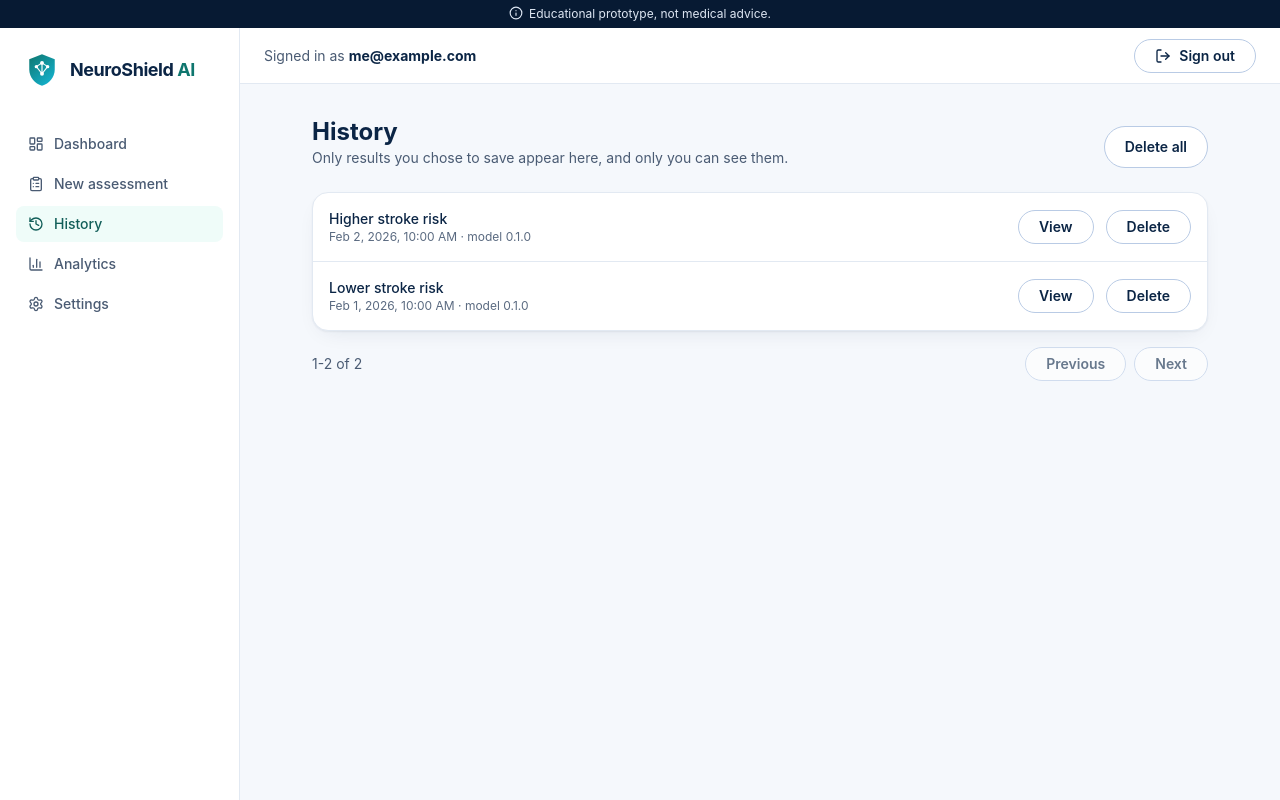
Test case: history › lists saved assessments and deletes one after confirmation
Expected: the text "Higher stroke risk" is shown, [329,210,447,227]
What coordinates should you click on to do the following:
click the button "Delete" in the row of "Higher stroke risk"
I would click on:
 (1148, 227)
Its box is [1106,210,1191,244].
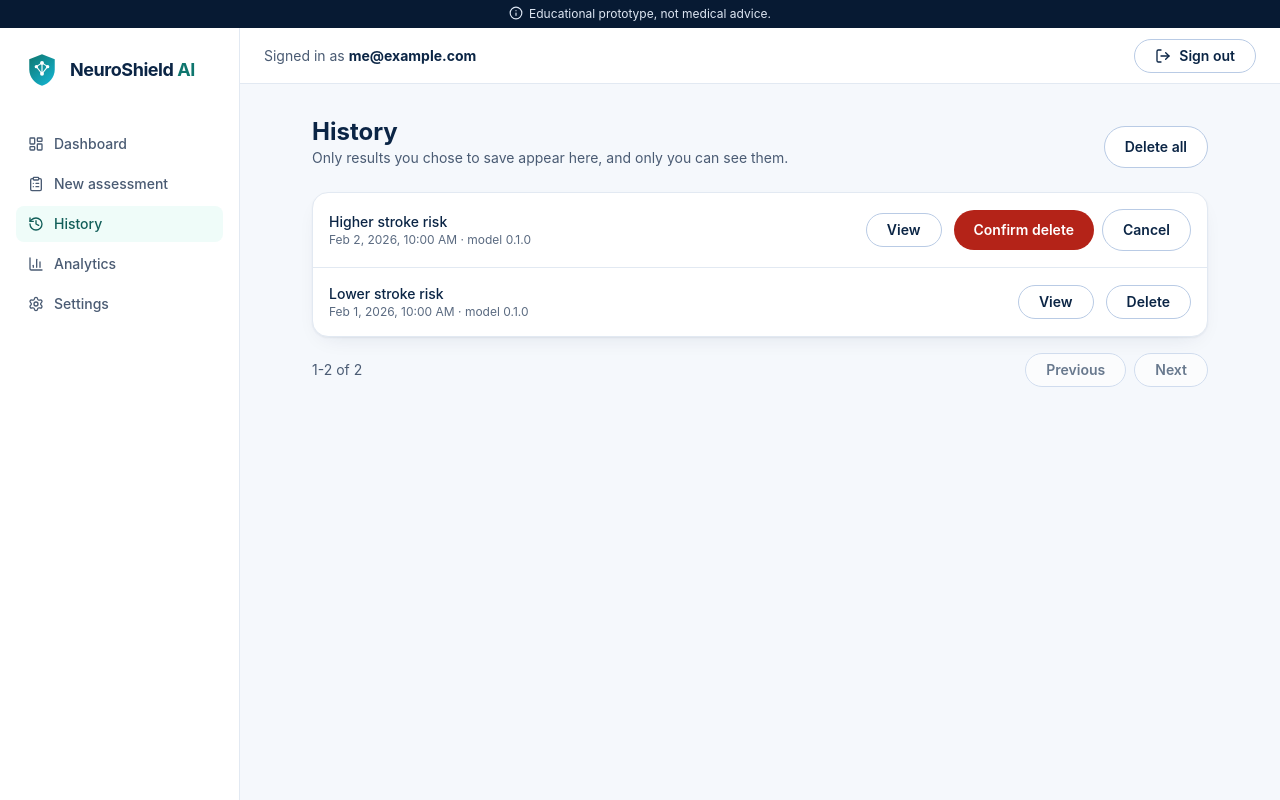
What coordinates should you click on to do the following:
click the button "Confirm delete"
I would click on:
 (1024, 230)
Its box is [954,210,1094,250].
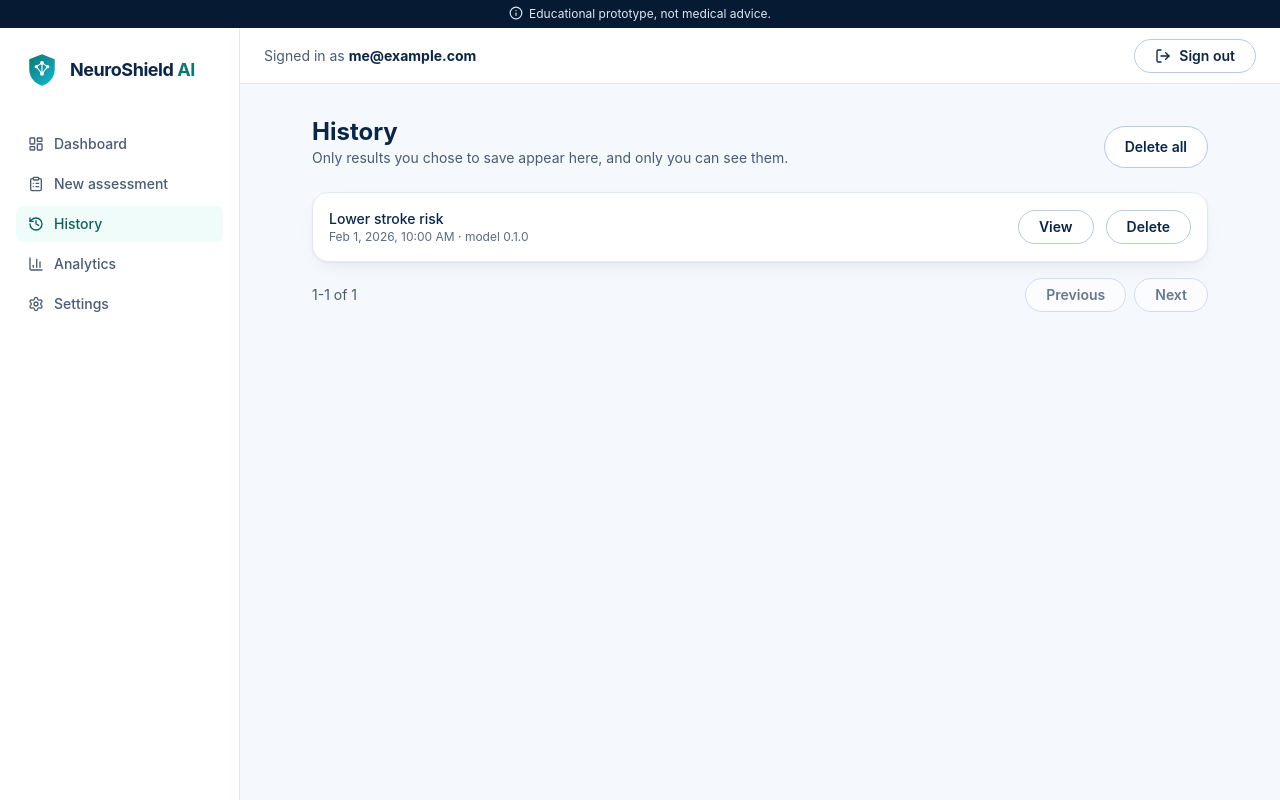
Expected: the text "Higher stroke risk" is gone
